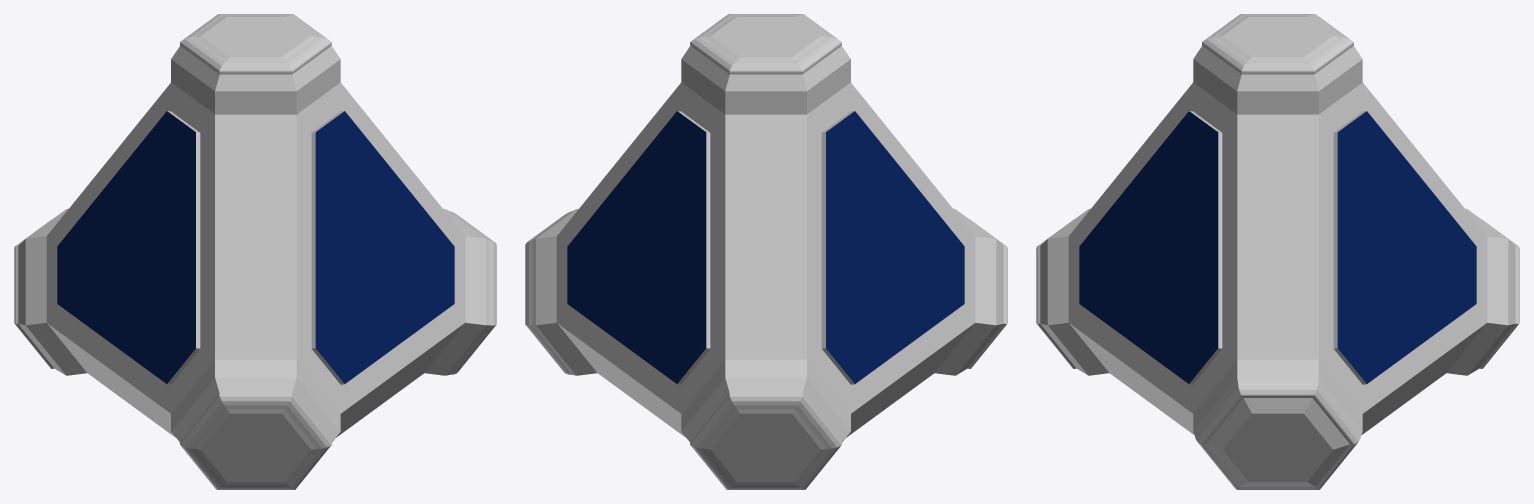
File: Trungle0104.obj
The picture shows the model from 3 angles, left to right: view 1: azimuth 30°, elevation 25°; view 2: azimuth 150°, elevation 25°; view 3: azimuth 270°, elevation 25°; orthographic projection.
Parts seen in each view (by area): view 1: BODY, FACES; view 2: BODY, FACES; view 3: BODY, FACES.
Boxes of the visible parts, x1,y1,x2,y2 form: BODY: (14,14,496,489); FACES: (57,111,454,383); BODY: (525,14,1007,489); FACES: (567,111,964,383); BODY: (1036,14,1519,489); FACES: (1079,111,1476,383).
Size of the model in its own units: 2.15 by 1.97 by 2.36.
